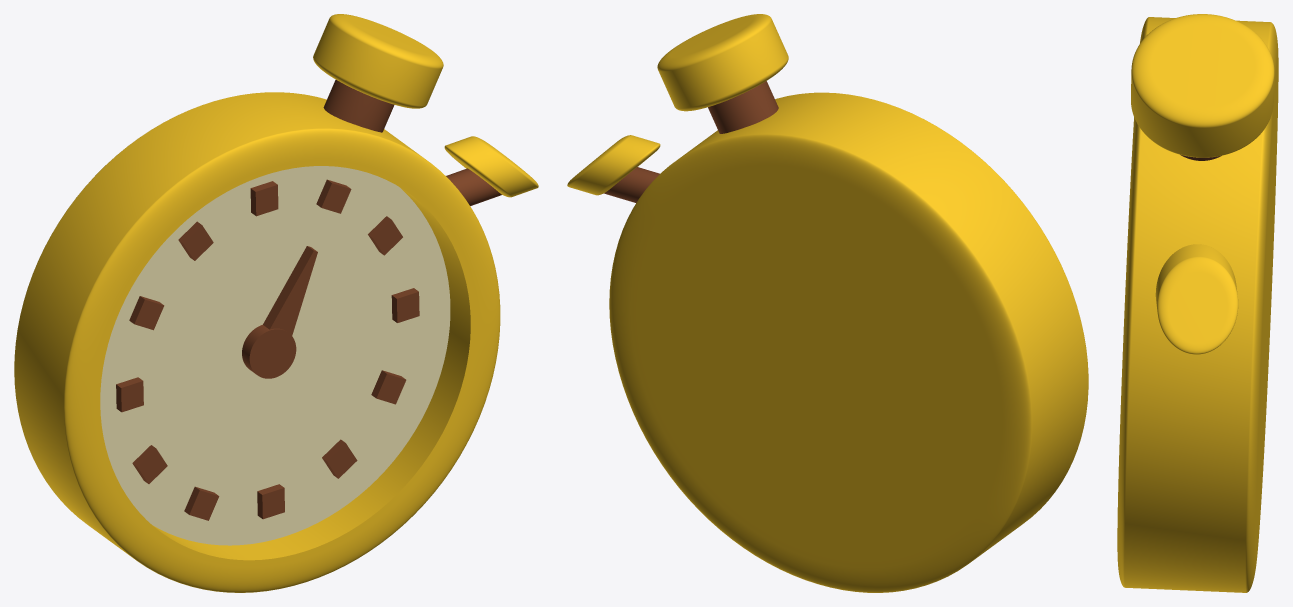
File: stopwatch.glb
3 views of the same model, side by side, from view 1: azimuth 30°, elevation 25°; view 2: azimuth 150°, elevation 25°; view 3: azimuth 270°, elevation 25° (orthographic). The views are drawn at different scales.
Parts seen in each view (by area): view 1: Cylinder.018, Cube.005, Cylinder.020, Cylinder.022, Cylinder.019, Cylinder.021, Cube.006, Cylinder.023; view 2: Cylinder.018, Cylinder.020, Cylinder.022, Cylinder.021, Cylinder.023; view 3: Cylinder.018, Cylinder.020, Cylinder.022.
Part boxes in pixels (x1,y1,x2,y2): Cylinder.018: (14, 92, 500, 592); Cube.005: (116, 179, 419, 520); Cylinder.020: (313, 14, 443, 108); Cylinder.022: (444, 136, 538, 197); Cylinder.019: (242, 324, 296, 378); Cylinder.021: (323, 80, 394, 132); Cube.006: (263, 246, 317, 335); Cylinder.023: (446, 168, 501, 205); Cylinder.018: (609, 92, 1088, 592); Cylinder.020: (657, 14, 788, 111); Cylinder.022: (567, 135, 660, 195); Cylinder.021: (708, 81, 778, 133); Cylinder.023: (604, 167, 659, 202); Cylinder.018: (1117, 17, 1278, 592); Cylinder.020: (1131, 14, 1274, 157); Cylinder.022: (1155, 244, 1238, 354).
Bounding box in the file's own units: 2.29 × 2.32 × 0.5641.
